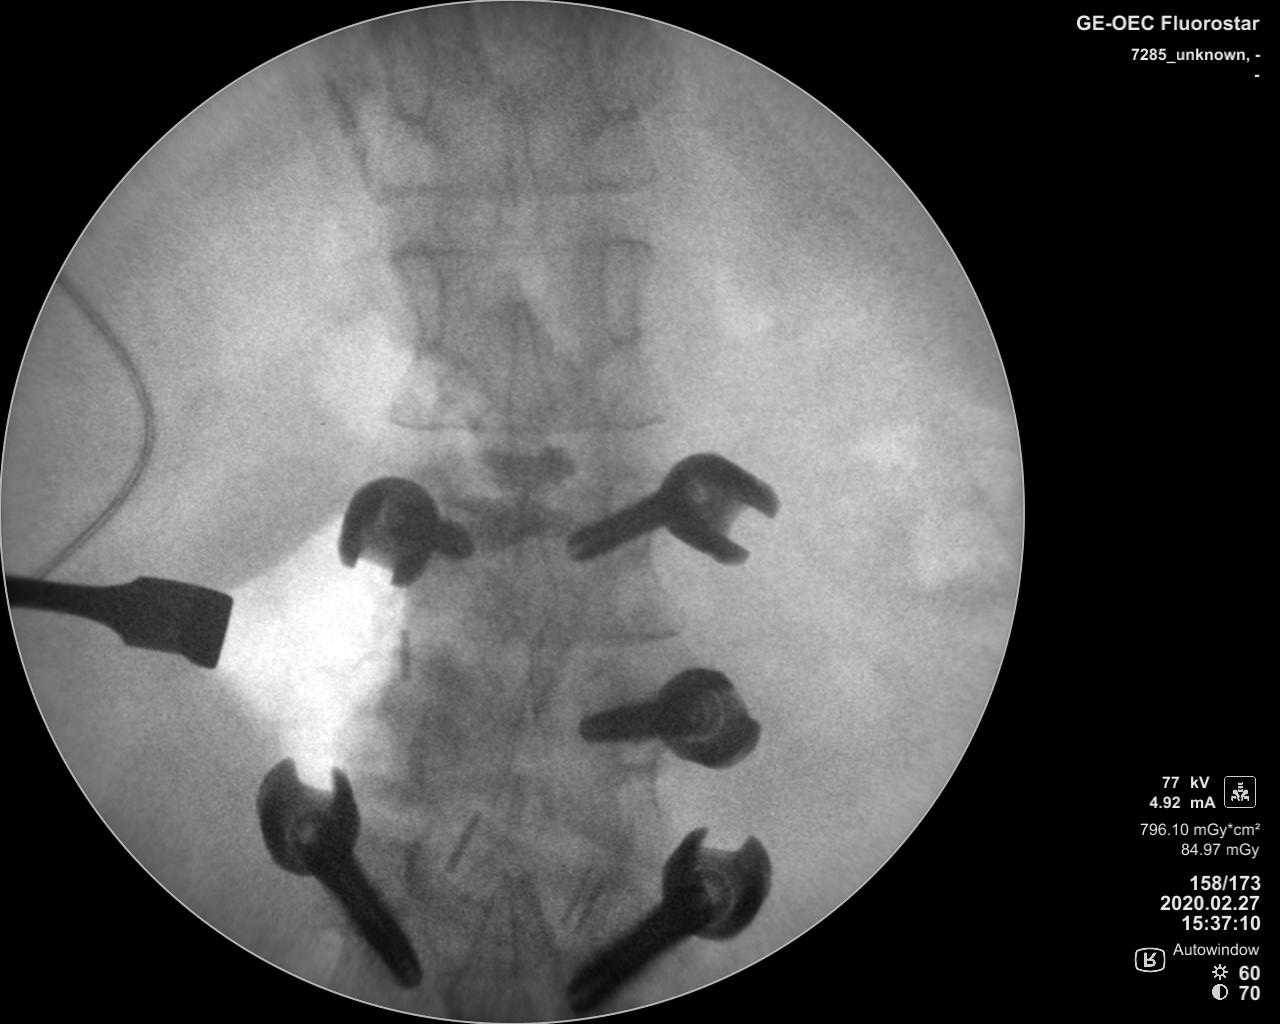eyes: (584, 14, 665, 119), (398, 242, 449, 352), (596, 239, 646, 348), (388, 18, 436, 130)
line: (387, 620, 685, 654), (368, 176, 667, 203), (385, 413, 669, 438), (385, 236, 660, 259)
nose: (498, 290, 559, 441), (506, 489, 557, 642), (495, 108, 546, 245)
